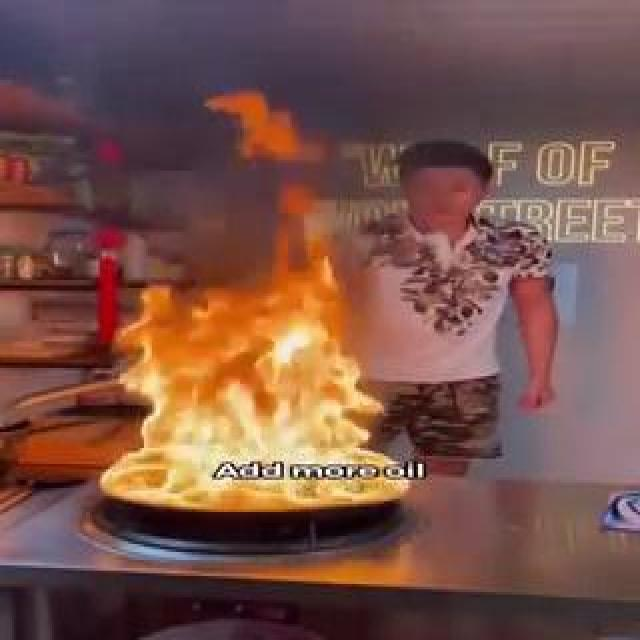Fire: (251, 336, 318, 348)
